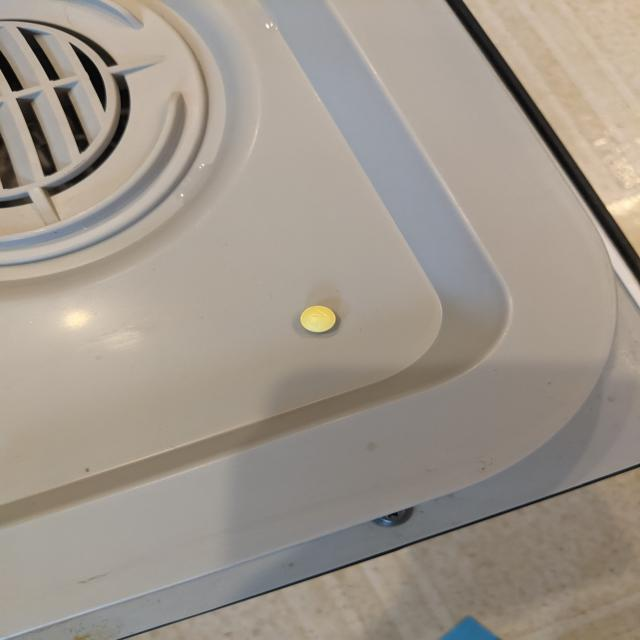non-organic waste: (300, 305, 338, 334)
